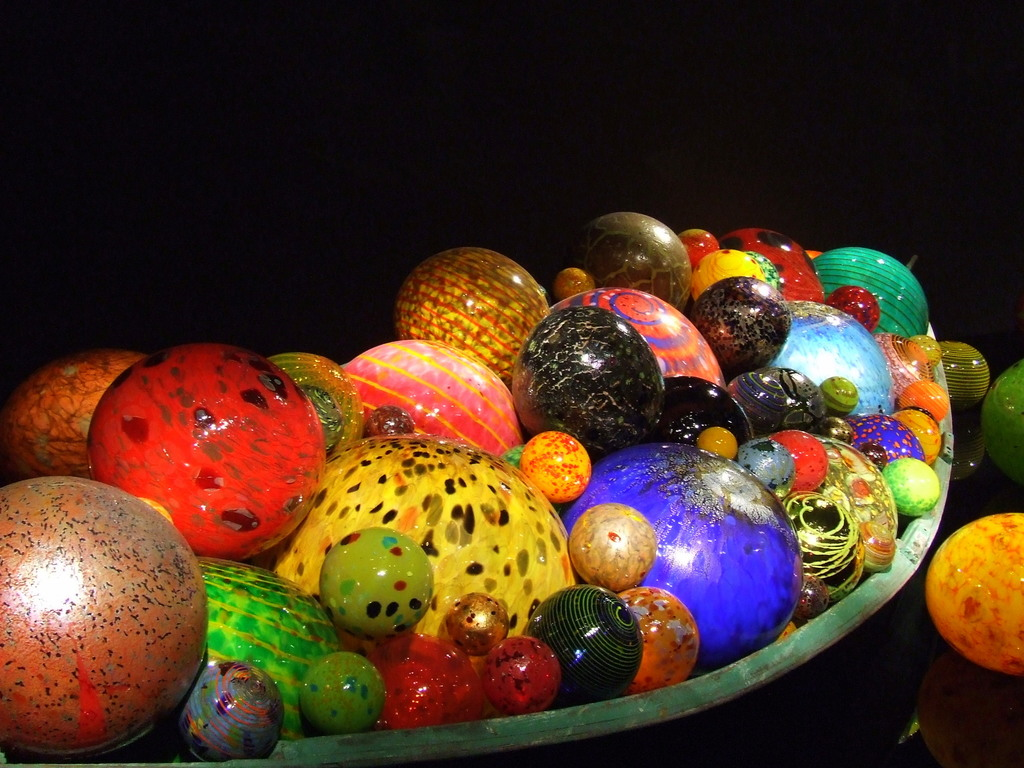Ball: (0, 212, 1023, 767)
